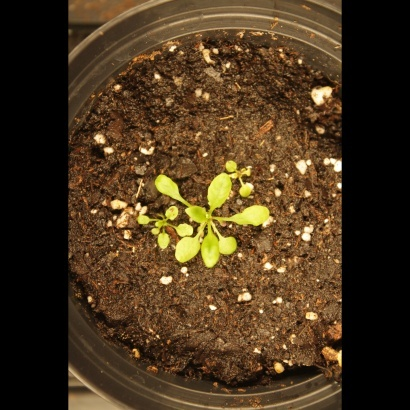leaf: (152, 170, 192, 207), (231, 199, 278, 229), (204, 170, 237, 212), (171, 234, 203, 269), (199, 226, 222, 269), (217, 233, 240, 259), (237, 181, 260, 204), (221, 150, 244, 173), (127, 209, 150, 232), (150, 231, 173, 254), (156, 201, 179, 224), (175, 220, 198, 243), (186, 202, 209, 225)
